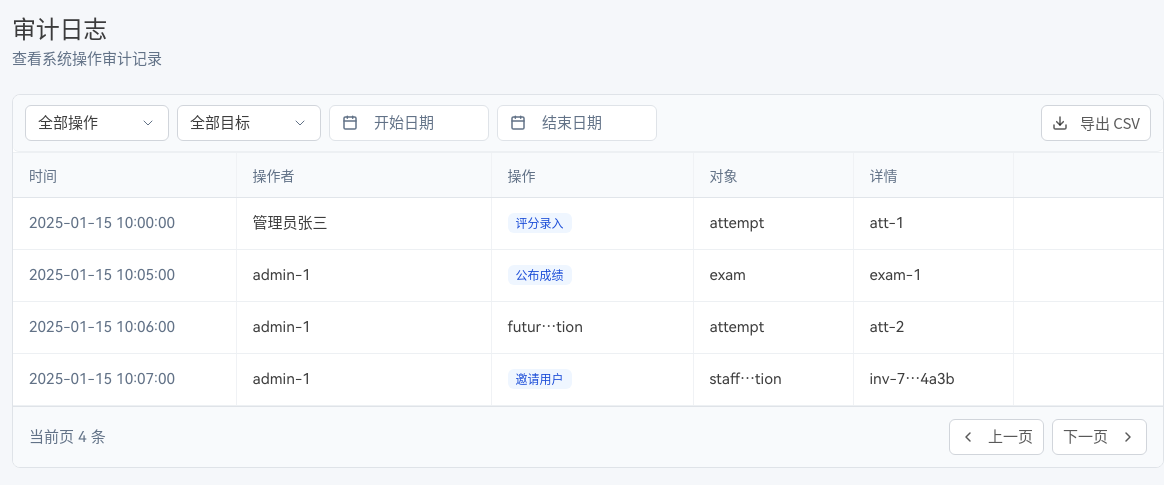
Test case: AuditLogPage › renders the action dropdown FROM the backend vocabulary, not a hardcoded list
The image size is (1164, 485).
Expected: the text "管理员张三" is shown, [236, 197, 491, 249]
Click the dropdown labelled "全部操作": (97, 123) [25, 105, 169, 141]
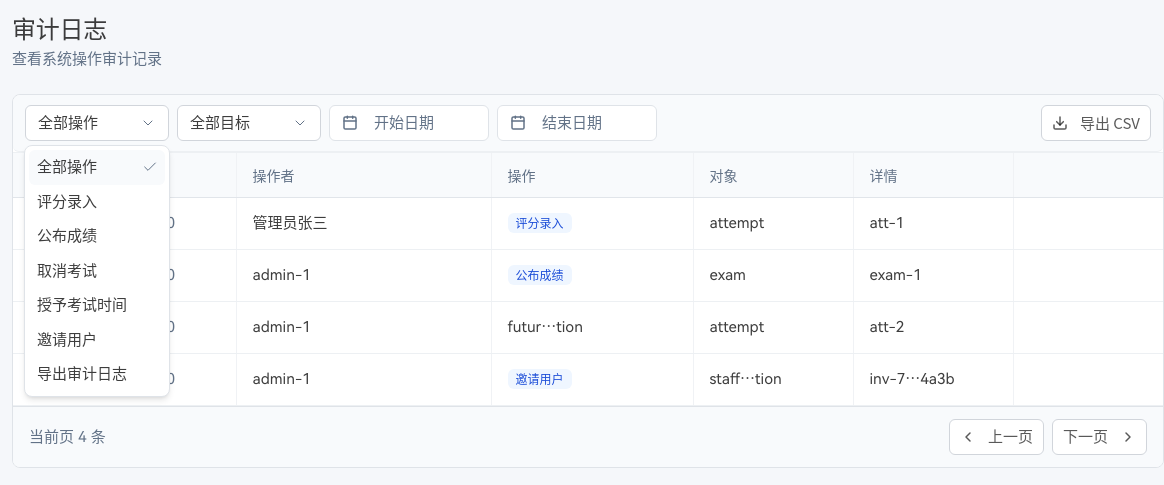
Expected: the option "邀请用户" is shown, [37, 330, 97, 348]
Expected: the option "导出审计日志" is shown, [37, 365, 127, 383]
